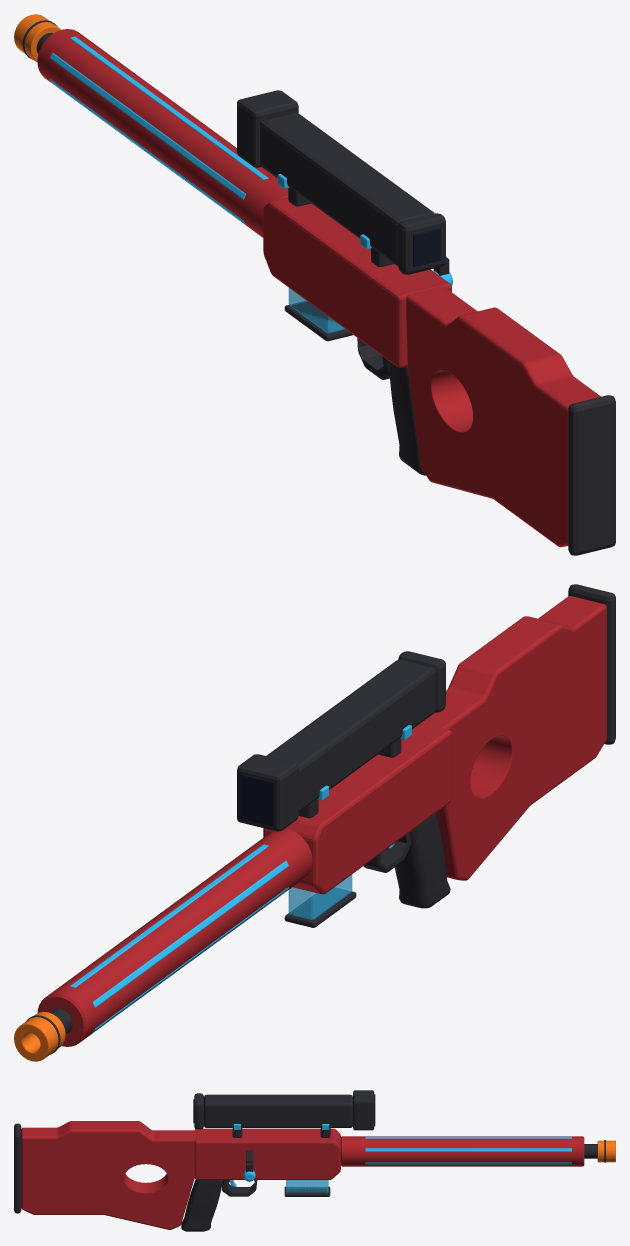
The picture shows the model from 3 angles, top to bottom: view 1: azimuth 30°, elevation 25°; view 2: azimuth 150°, elevation 25°; view 3: azimuth 270°, elevation 25°; orthographic projection. The views are drawn at different scales.
Parts seen in each view (by area): view 1: body, mag; view 2: body, mag; view 3: body, mag, bolt.
Part boxes in pixels (bbox=[...]): body: bbox=[14, 14, 615, 555]; mag: bbox=[284, 288, 353, 341]; body: bbox=[14, 584, 615, 1061]; mag: bbox=[284, 874, 356, 927]; body: bbox=[14, 1090, 615, 1231]; mag: bbox=[284, 1180, 330, 1196]; bolt: bbox=[243, 1150, 255, 1181].
Size of the model in its own units: 0.103 by 0.242 by 0.989.
